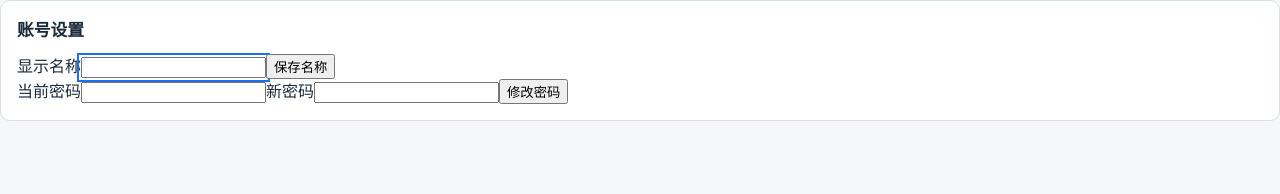
Scenario: ProfilePanel › updates display name and shows confirmation
Earlier steps of the test are not shown.
Type "New Name" into the field named "新的显示名称" at (174, 68), box left=81, top=57, right=266, bottom=78
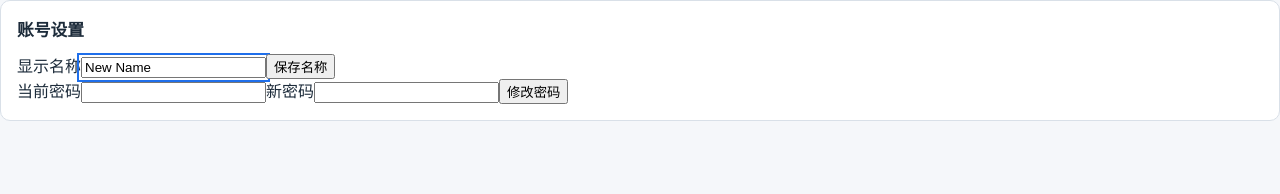
Click the button "保存名称" at (301, 67), box left=266, top=54, right=335, bottom=79
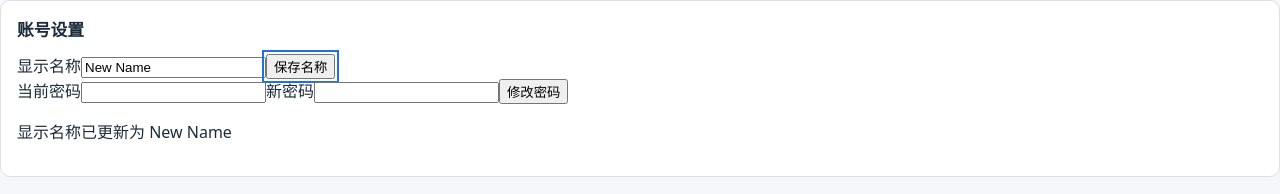
Expected: the message shows "New Name", left=17, top=121, right=232, bottom=143
